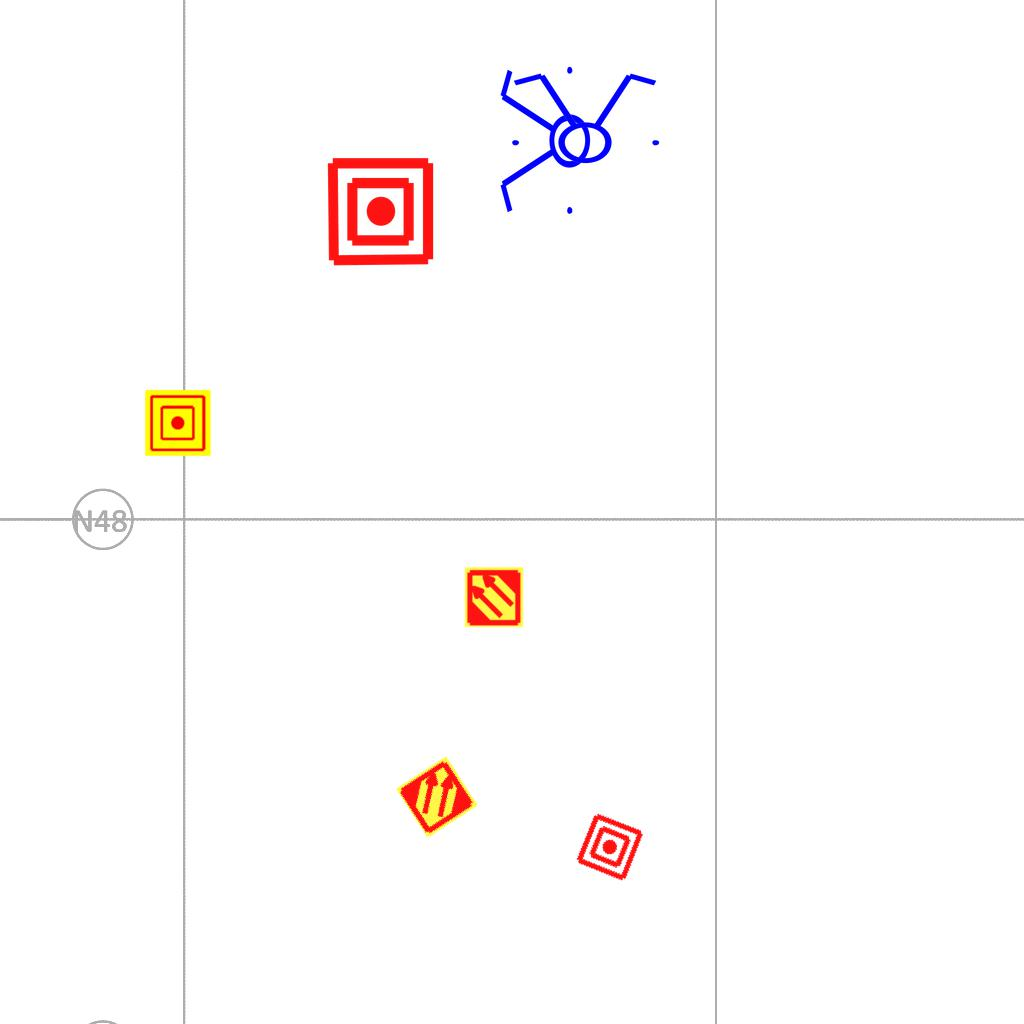ASR_Ansaugrauchmelder: (394, 754, 480, 840), (463, 566, 525, 628)
NAM-Nichtautomatischer_Melder: (324, 155, 437, 268), (573, 810, 647, 884), (145, 390, 211, 456)
Serienschalter: (496, 58, 592, 226), (500, 69, 668, 165)
